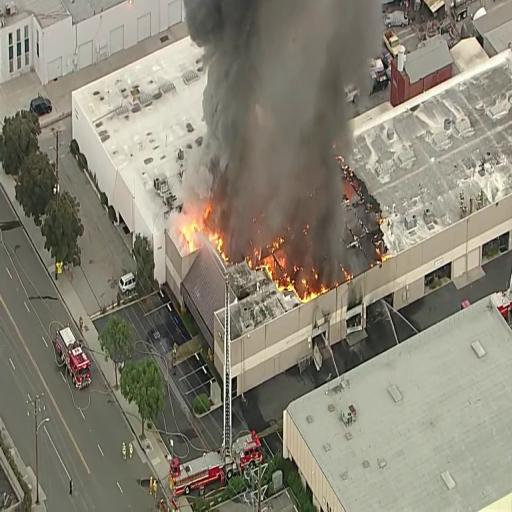smoke: (213, 0, 362, 196)
